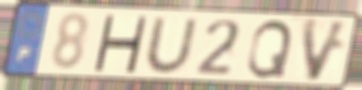2: (193, 18, 243, 76)
8: (48, 11, 92, 74)
H: (91, 13, 150, 75)
Q: (245, 18, 295, 80)
U: (143, 16, 200, 76)
V: (299, 16, 353, 84)
